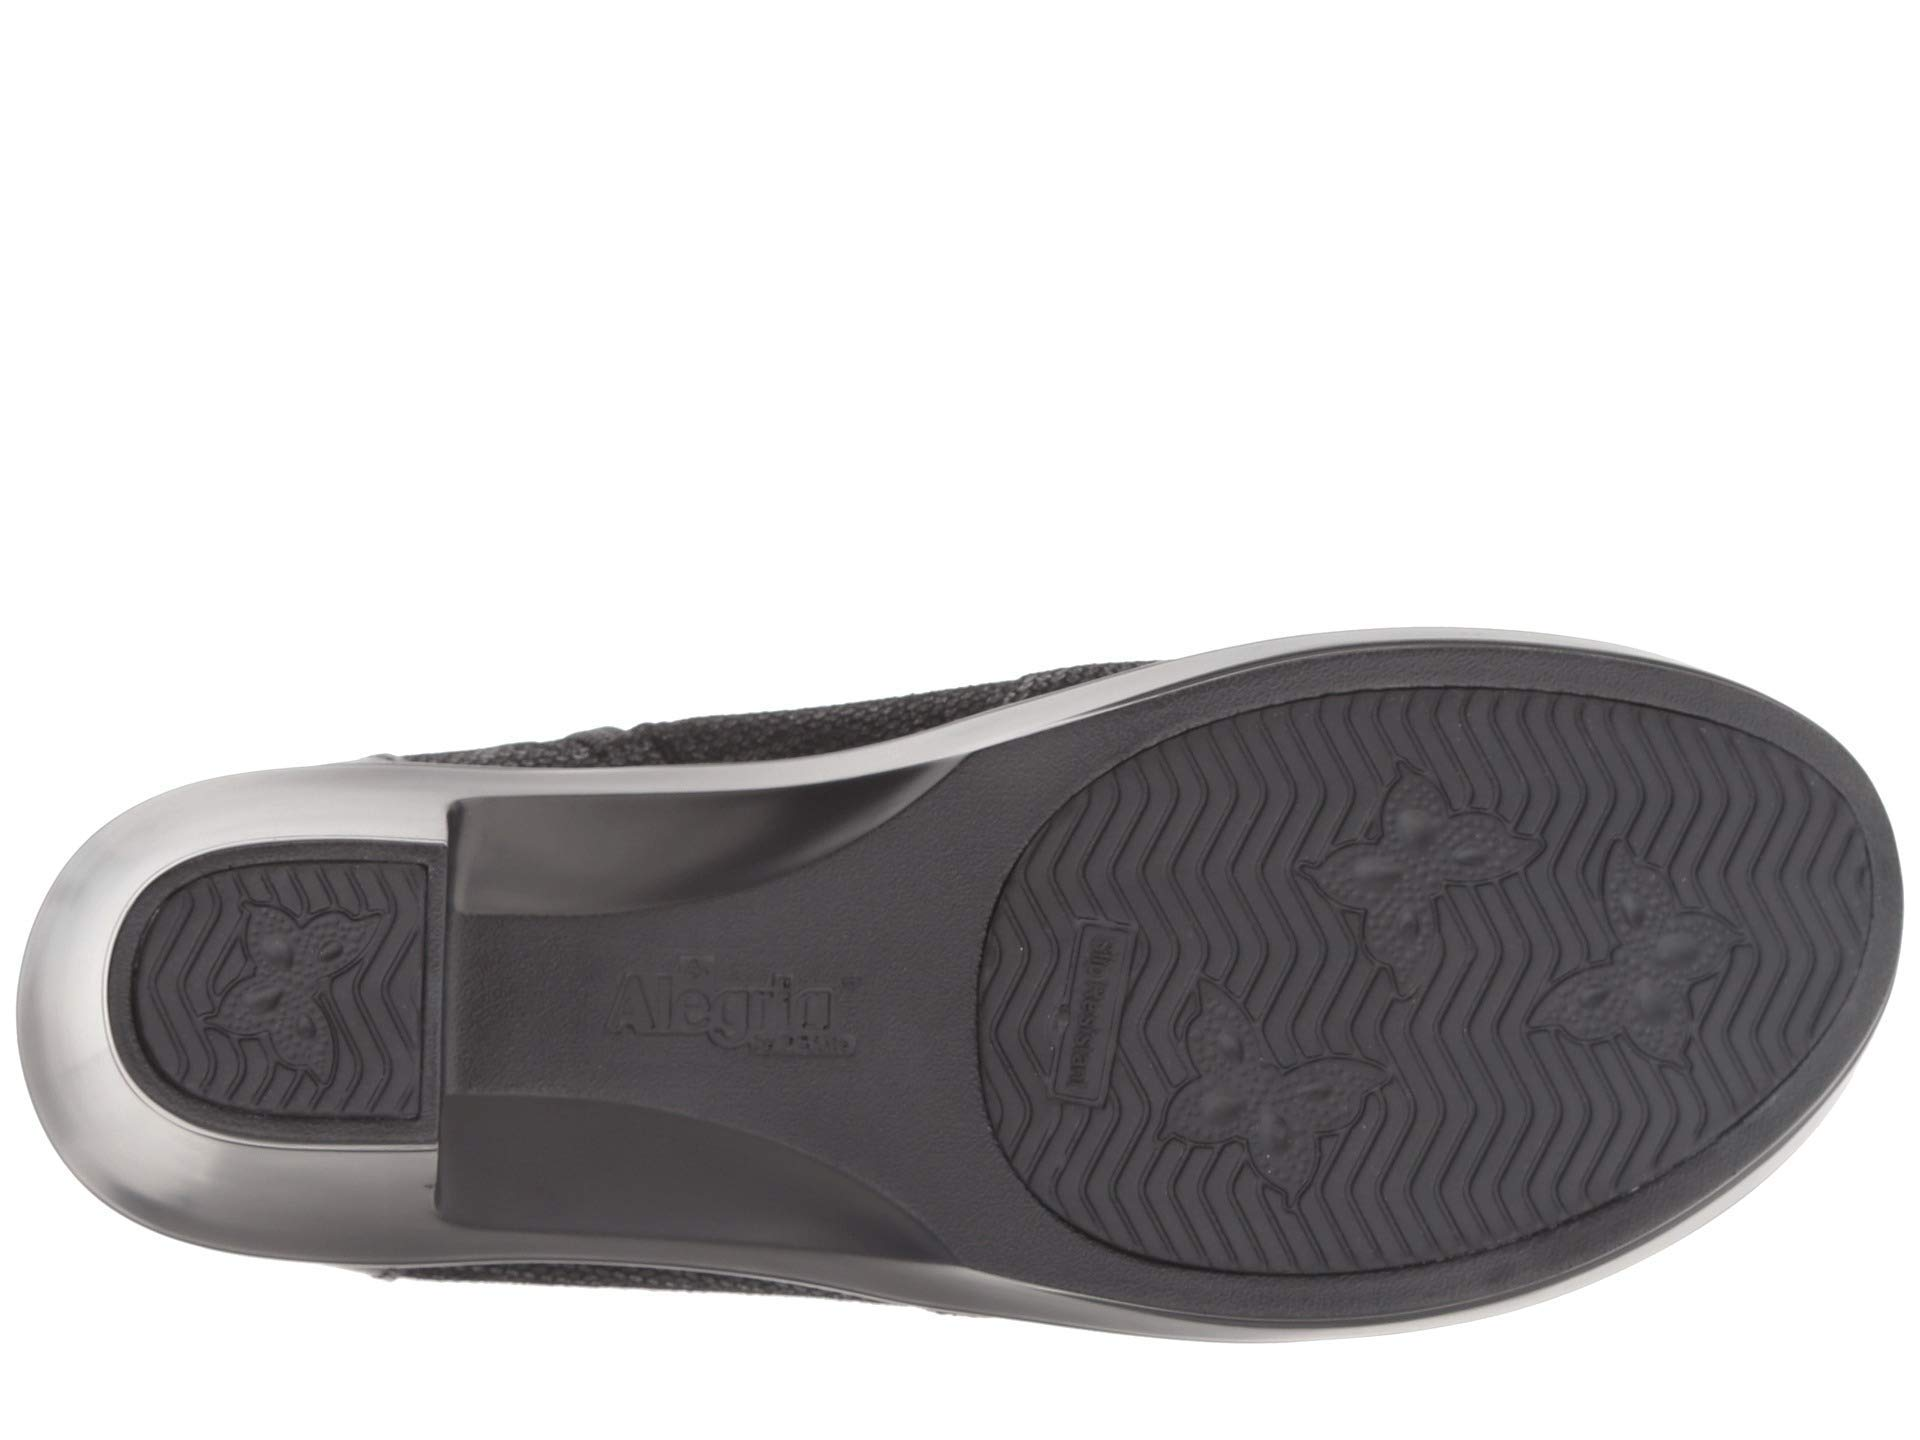bowtie: (1302, 753, 1574, 1021), (1138, 967, 1394, 1203)
chevron: (1302, 753, 1574, 1021), (1138, 967, 1394, 1203), (1037, 895, 1172, 1189), (1533, 725, 1801, 855), (1406, 1019, 1571, 1224), (1126, 762, 1299, 921), (337, 954, 428, 1113), (1748, 888, 1864, 991), (165, 908, 219, 1080)
quad: (1037, 895, 1172, 1189)
text: (1037, 895, 1172, 1189)
